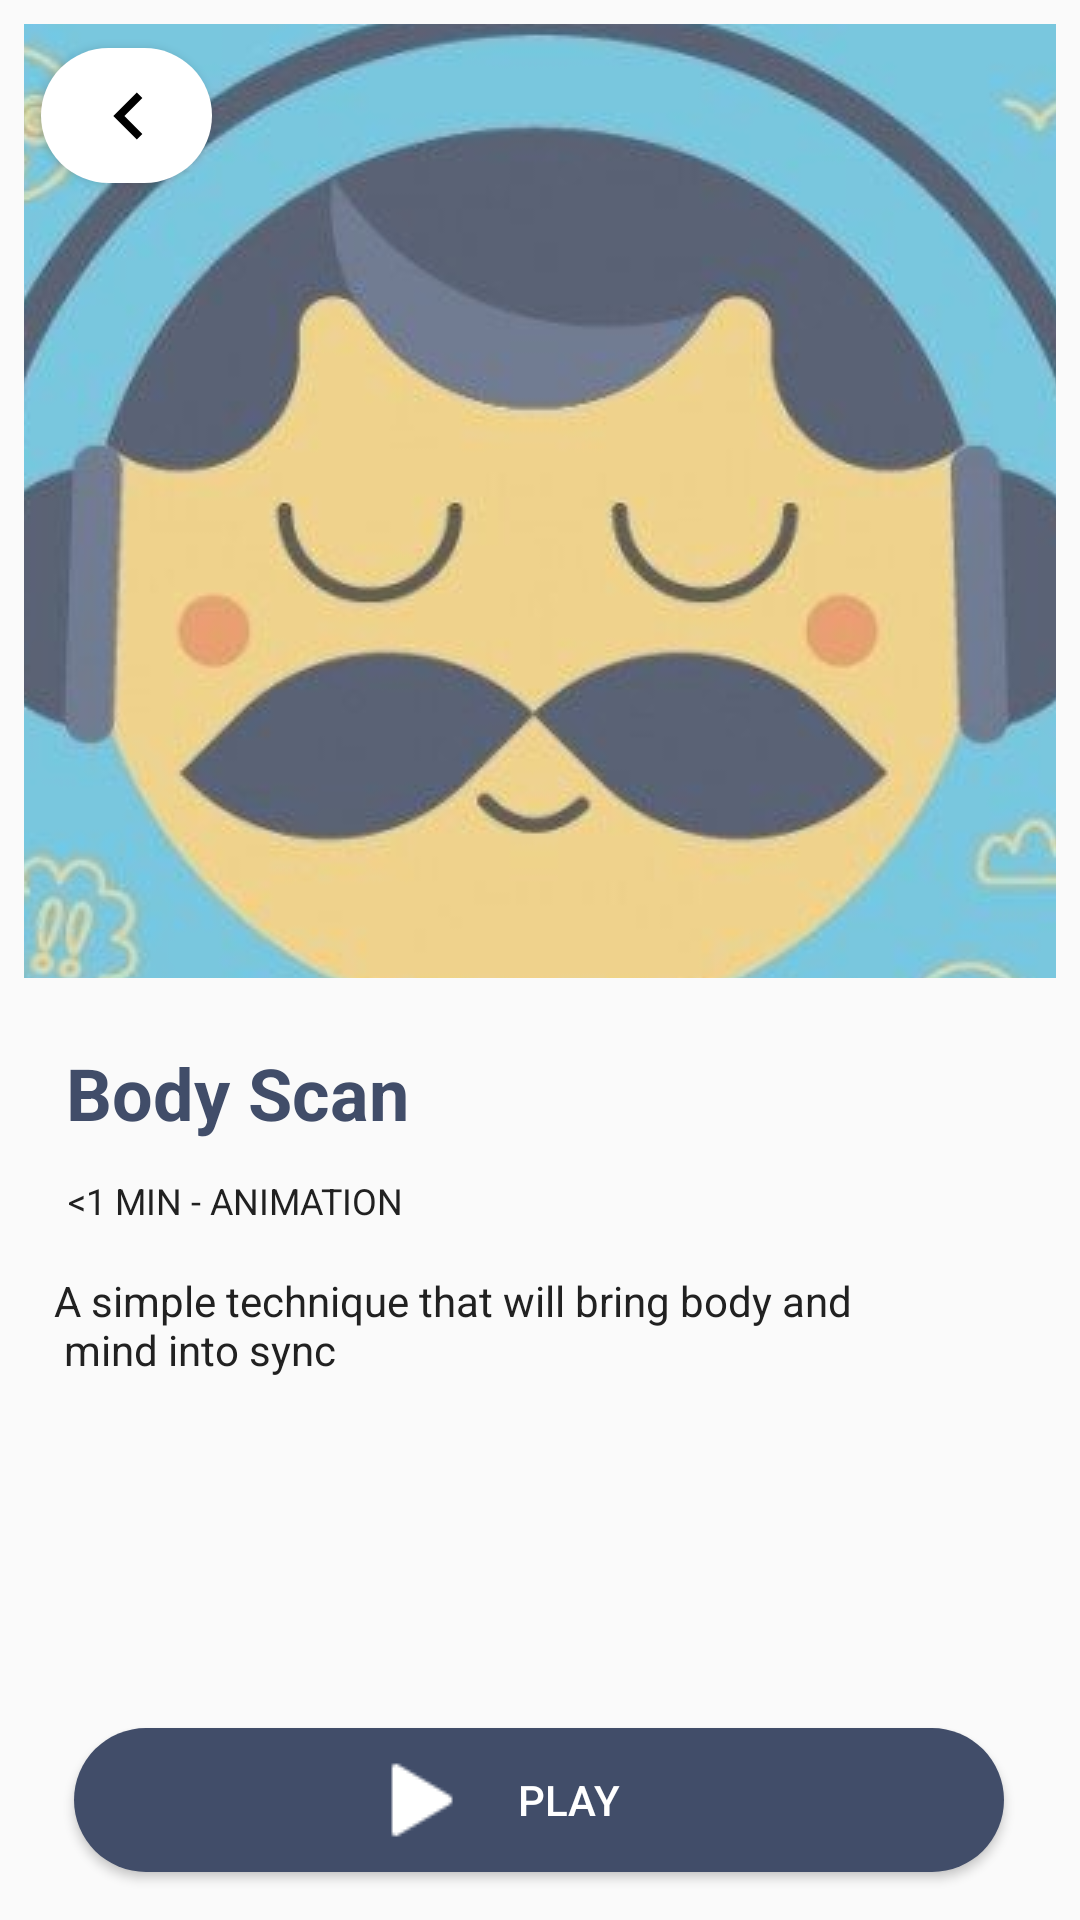

Screen size 1080*1920. Icon name, then its box in pixels as (x1, y1, x2, y2):
boton: (41, 48, 212, 183)
